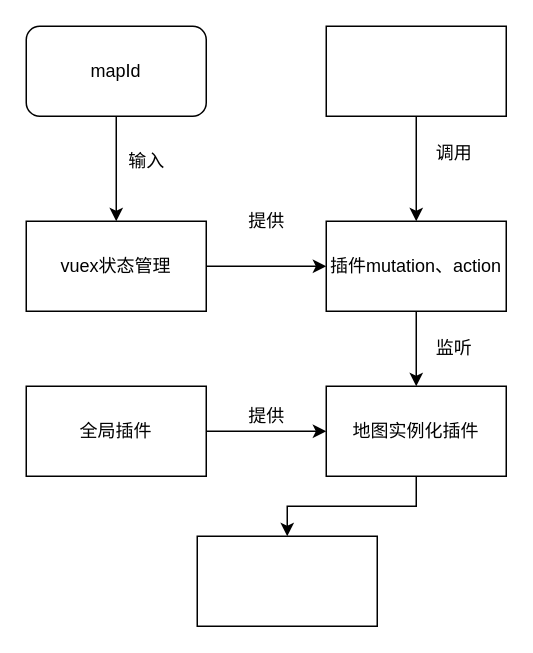
Image size: 533x653. Some labels were removed from this diagram. Each missing label, with the box of its shape:
外部组件: (325, 25, 506, 116)
展示插件效果: (196, 535, 377, 626)
